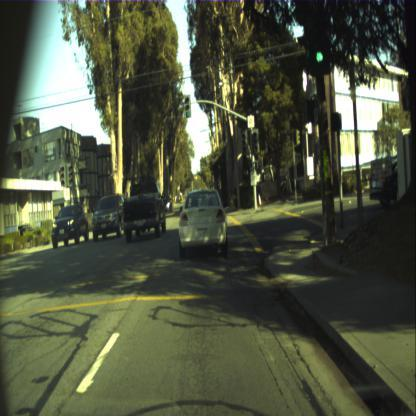Green: (316, 26, 324, 64)
GreenLeft: (186, 96, 190, 116)
off: (252, 132, 258, 152)
